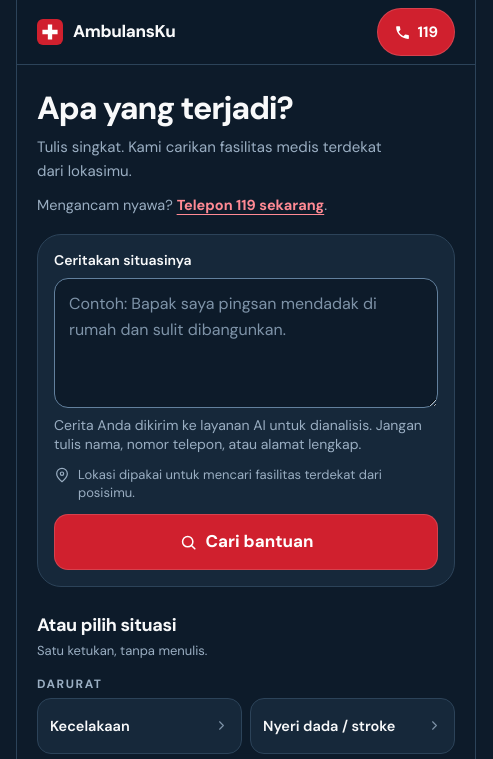
Scenario: home location states › shows the network banner and does not request geolocation offline
Replace the text in the text box with "pingsan" at (246, 343), box [54, 278, 438, 408]
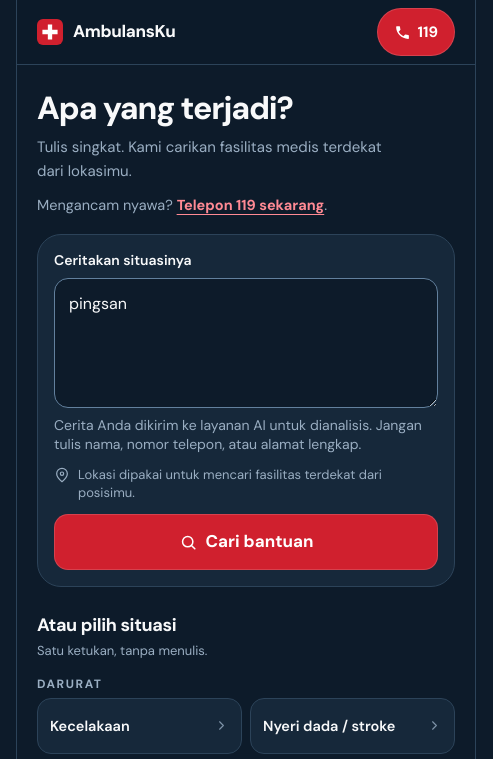
Click the button "Cari bantuan".
click(246, 542)  # box [54, 514, 438, 570]
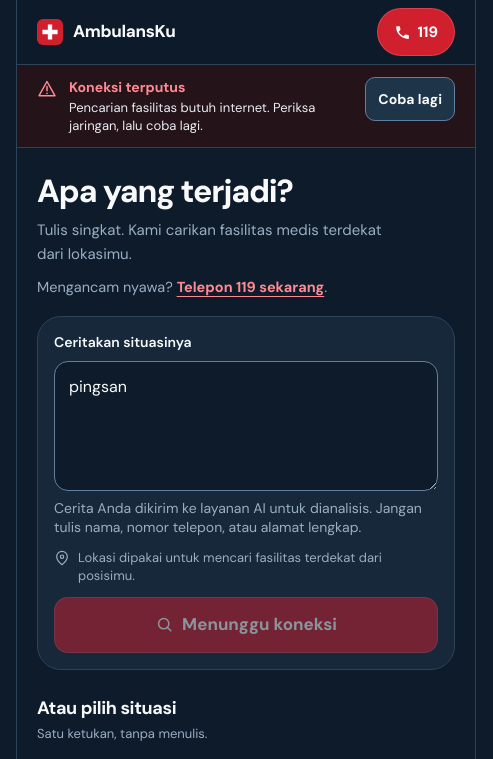
Result: the text "Koneksi terputus" is shown at [69, 78, 186, 96]
Result: the button "Menunggu koneksi" is disabled at [54, 597, 438, 653]
